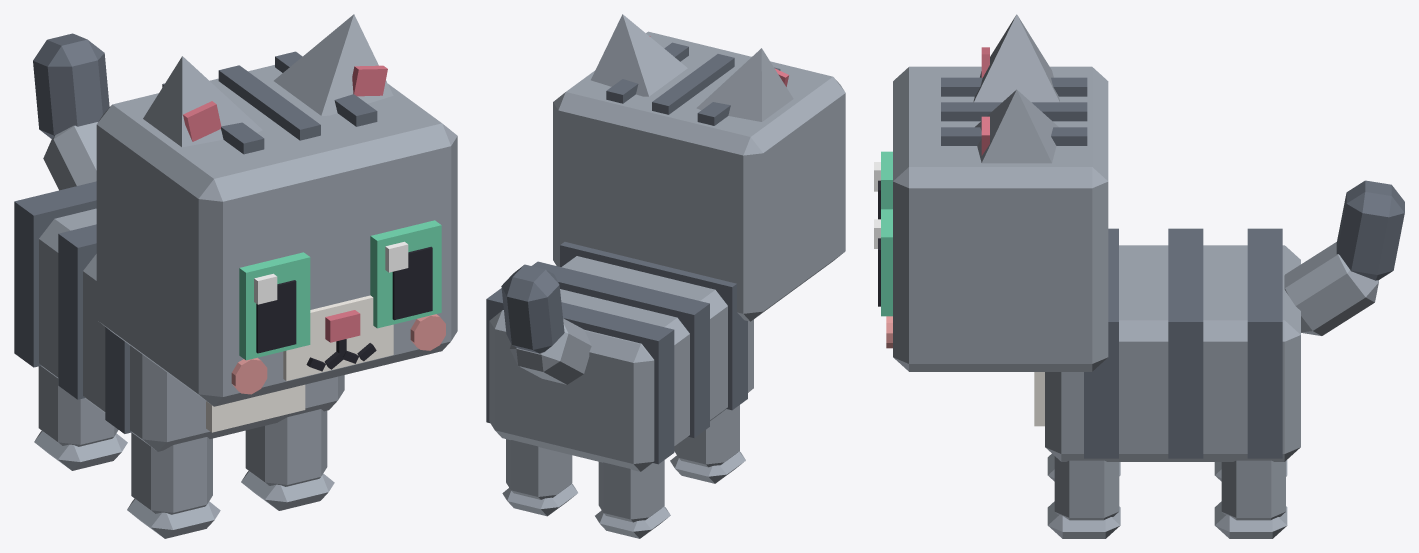
File: CleanACat_Cat_Smudge.fbx
3 renders of one model, left to right at view 1: azimuth 30°, elevation 25°; view 2: azimuth 150°, elevation 25°; view 3: azimuth 270°, elevation 25°, orthographic. The views are drawn at different scales.
Parts seen in each view (by area): view 1: CleanACat_Cat_Smudge_Head, CleanACat_Cat_Smudge_Body, CleanACat_Cat_Smudge_Tail, CleanACat_Cat_Smudge_LegF2, CleanACat_Cat_Smudge_LegF1, CleanACat_Cat_Smudge_Eye2, CleanACat_Cat_Smudge_Eye1, CleanACat_Cat_Smudge_EarL, CleanACat_Cat_Smudge_LegB2, CleanACat_Cat_Smudge_EarR; view 2: CleanACat_Cat_Smudge_Head, CleanACat_Cat_Smudge_Body, CleanACat_Cat_Smudge_Tail, CleanACat_Cat_Smudge_LegB2, CleanACat_Cat_Smudge_LegB1, CleanACat_Cat_Smudge_EarL, CleanACat_Cat_Smudge_EarR, CleanACat_Cat_Smudge_LegF2; view 3: CleanACat_Cat_Smudge_Head, CleanACat_Cat_Smudge_Body, CleanACat_Cat_Smudge_Tail, CleanACat_Cat_Smudge_LegF1, CleanACat_Cat_Smudge_LegB1, CleanACat_Cat_Smudge_EarR, CleanACat_Cat_Smudge_EarL, CleanACat_Cat_Smudge_Eye1, CleanACat_Cat_Smudge_Eye2.
Boxes of the visible parts, left/top/right/bottom form: CleanACat_Cat_Smudge_Head: left=96, top=51, right=457, bottom=406; CleanACat_Cat_Smudge_Body: left=14, top=181, right=344, bottom=451; CleanACat_Cat_Smudge_Tail: left=33, top=33, right=109, bottom=190; CleanACat_Cat_Smudge_LegF2: left=127, top=432, right=220, bottom=538; CleanACat_Cat_Smudge_LegF1: left=241, top=409, right=334, bottom=510; CleanACat_Cat_Smudge_Eye2: left=239, top=252, right=310, bottom=360; CleanACat_Cat_Smudge_Eye1: left=370, top=220, right=441, bottom=328; CleanACat_Cat_Smudge_EarL: left=274, top=14, right=393, bottom=115; CleanACat_Cat_Smudge_LegB2: left=34, top=366, right=127, bottom=470; CleanACat_Cat_Smudge_EarR: left=143, top=56, right=262, bottom=147; CleanACat_Cat_Smudge_Head: left=553, top=31, right=845, bottom=321; CleanACat_Cat_Smudge_Body: left=486, top=242, right=753, bottom=471; CleanACat_Cat_Smudge_Tail: left=501, top=264, right=591, bottom=384; CleanACat_Cat_Smudge_LegB2: left=595, top=460, right=670, bottom=538; CleanACat_Cat_Smudge_LegB1: left=502, top=439, right=577, bottom=516; CleanACat_Cat_Smudge_EarL: left=591, top=14, right=687, bottom=96; CleanACat_Cat_Smudge_EarR: left=696, top=48, right=793, bottom=121; CleanACat_Cat_Smudge_LegF2: left=670, top=405, right=745, bottom=483; CleanACat_Cat_Smudge_Head: left=886, top=66, right=1108, bottom=371; CleanACat_Cat_Smudge_Body: left=1034, top=228, right=1300, bottom=461; CleanACat_Cat_Smudge_Tail: left=1284, top=180, right=1404, bottom=335; CleanACat_Cat_Smudge_LegF1: left=1047, top=456, right=1120, bottom=538; CleanACat_Cat_Smudge_LegB1: left=1214, top=460, right=1287, bottom=538; CleanACat_Cat_Smudge_EarR: left=973, top=14, right=1059, bottom=102; CleanACat_Cat_Smudge_EarL: left=975, top=89, right=1058, bottom=163; CleanACat_Cat_Smudge_Eye1: left=874, top=209, right=892, bottom=316; CleanACat_Cat_Smudge_Eye2: left=874, top=151, right=892, bottom=219.
Size of the model in its own units: 1 by 1.86 by 1.97.
Materials: 1 (1 with a texture image).
